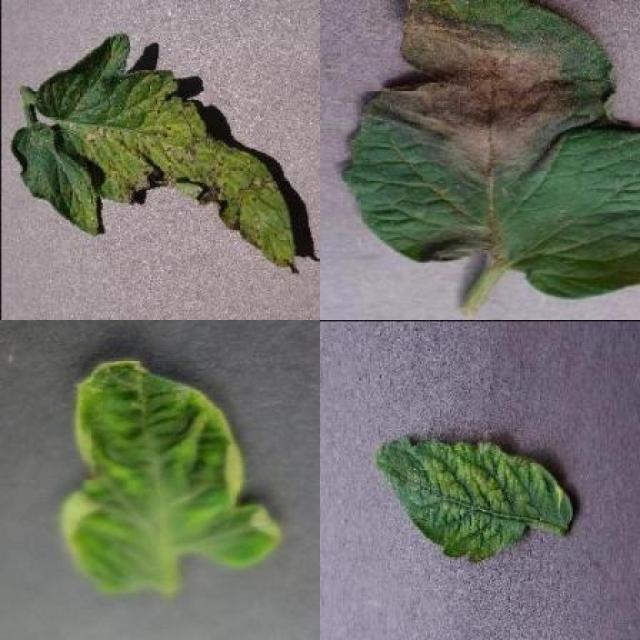Late Blight: (343, 0, 640, 300)
Mosaic Virus: (374, 433, 574, 560)
Septoria: (14, 34, 299, 270)
Yellow Leaf Curl Virus: (59, 357, 281, 596)
